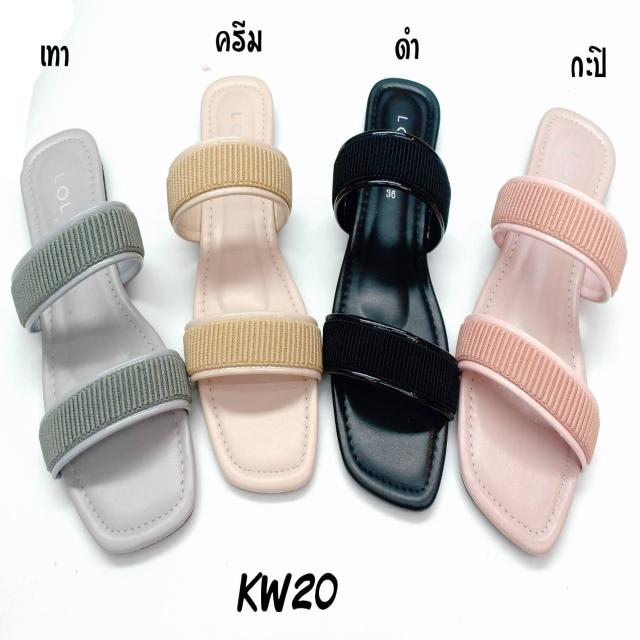black: (338, 82, 456, 508)
cream: (197, 80, 320, 494)
grey: (24, 129, 195, 552)
kapi: (466, 103, 619, 551)
